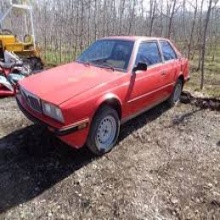no damage: (16, 34, 190, 153)
